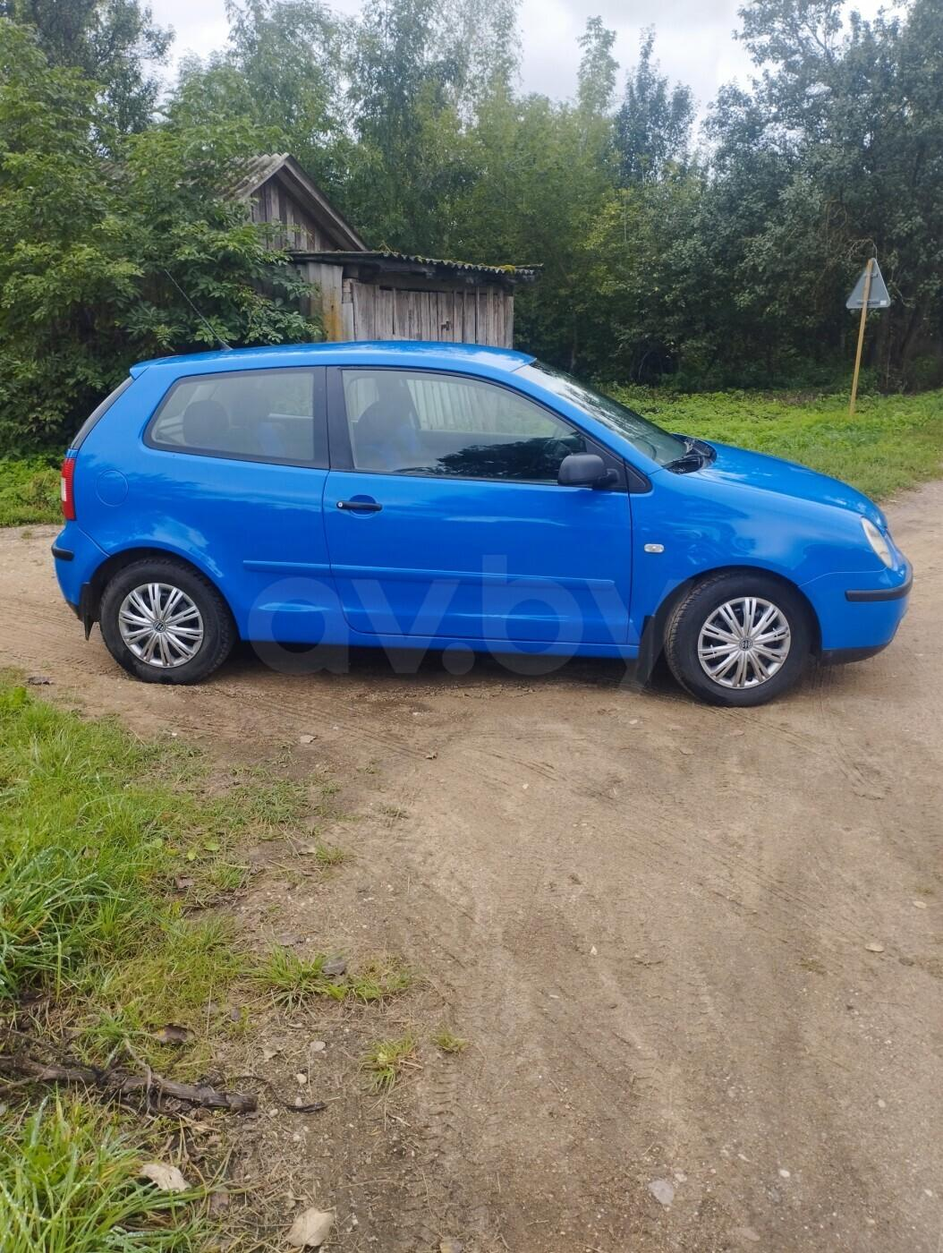Polo_2001-2005: (40, 336, 916, 739)
